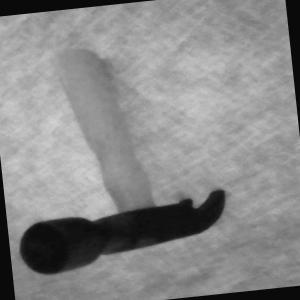martelo: (0, 29, 232, 276)
